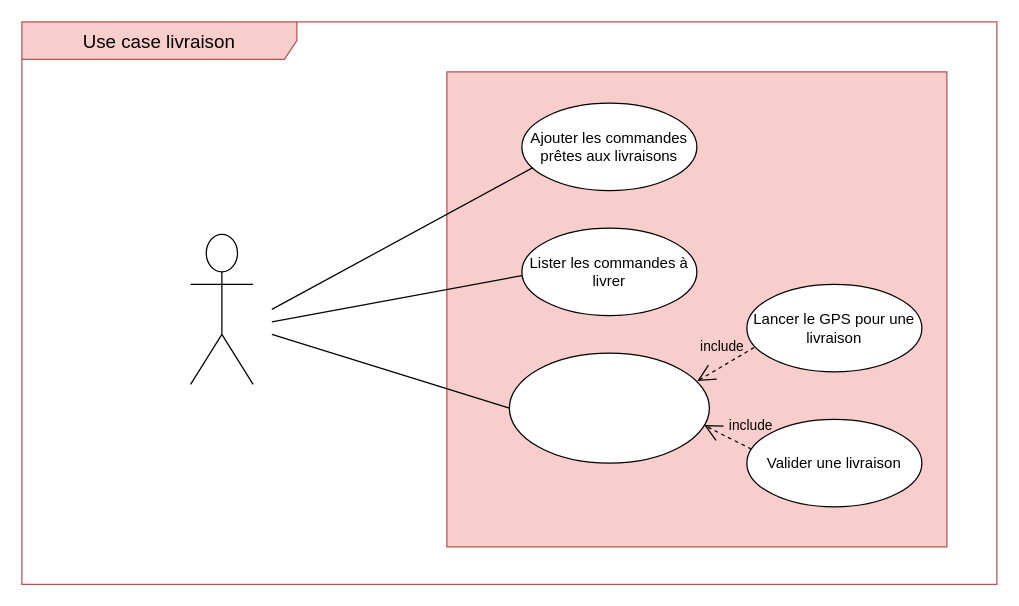
Image size: 1019x606. Some labels were removed from this diagram. Each missing label, with the centre of its shape:
"Lancer le programme de livraison" goes at [608,407].
"Livreur" goes at [221,308].
